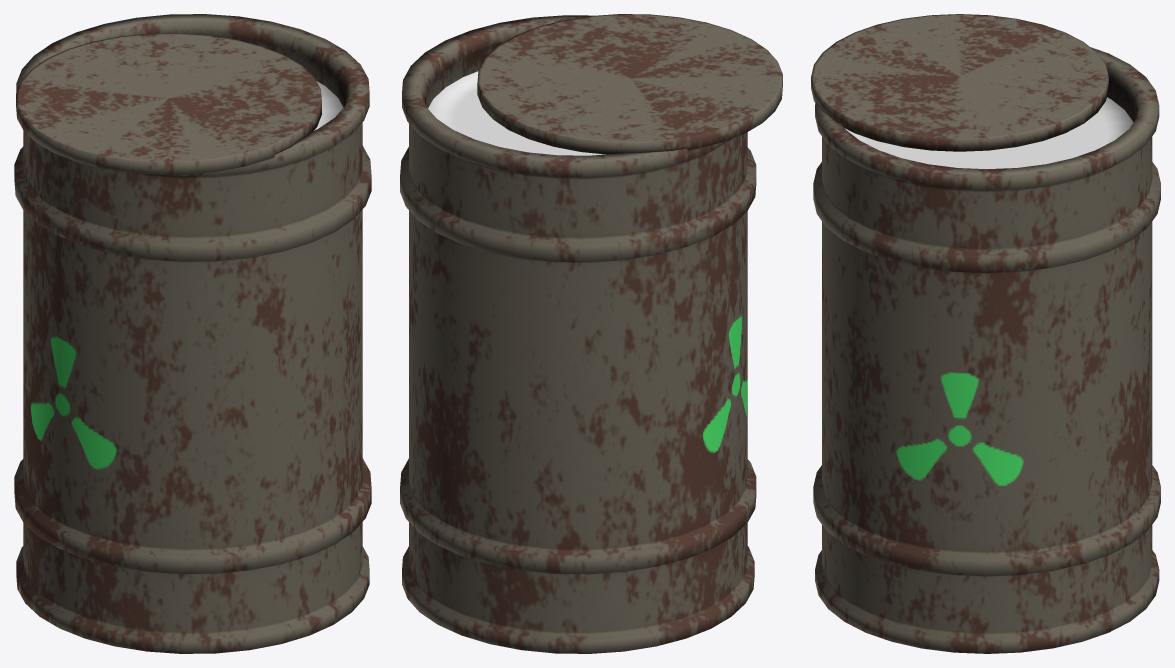
File: toxic_barrel.fbx
The picture shows the model from 3 angles, left to right: view 1: azimuth 30°, elevation 25°; view 2: azimuth 150°, elevation 25°; view 3: azimuth 270°, elevation 25°; orthographic projection. The views are drawn at different scales.
Parts seen in each view (by area): view 1: toxic_Barrel_Lid.001; view 2: toxic_Barrel_Lid.001; view 3: toxic_Barrel_Lid.001.
Boxes of the visible parts, bbox=[...] form: toxic_Barrel_Lid.001: bbox=[14, 14, 371, 653]; toxic_Barrel_Lid.001: bbox=[400, 14, 782, 653]; toxic_Barrel_Lid.001: bbox=[811, 14, 1160, 653].
Size of the model in its own units: 247 by 363 by 236.
